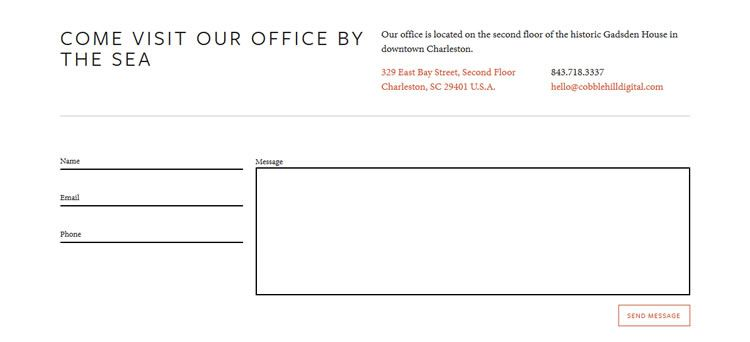_form_: (1, 1, 416, 342)
button: (618, 303, 691, 327)
field: (254, 166, 691, 297)
field_line: (59, 155, 245, 172), (57, 192, 245, 207), (59, 228, 243, 243)
